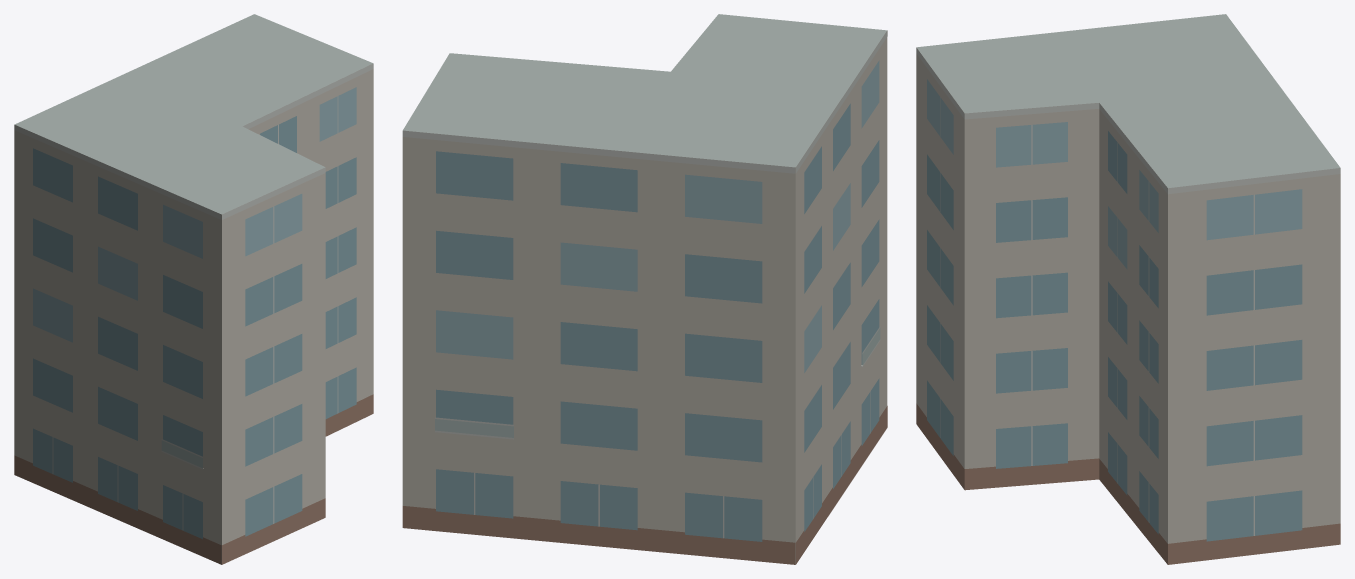
File: survey-upis-32680807.glb
3 views of the same model, side by side, from view 1: azimuth 30°, elevation 25°; view 2: azimuth 150°, elevation 25°; view 3: azimuth 270°, elevation 25° (orthographic). The views are drawn at different scales.
Visible parts, largest first — view 1: survey-upis-32680807.tmp; view 2: survey-upis-32680807.tmp; view 3: survey-upis-32680807.tmp.
Part boxes in pixels (left/top/right/bottom): survey-upis-32680807.tmp: left=14, top=14, right=373, bottom=564; survey-upis-32680807.tmp: left=402, top=14, right=887, bottom=564; survey-upis-32680807.tmp: left=916, top=14, right=1340, bottom=564.
Size of the model in its own units: 15.14 by 15.25 by 15.58.
